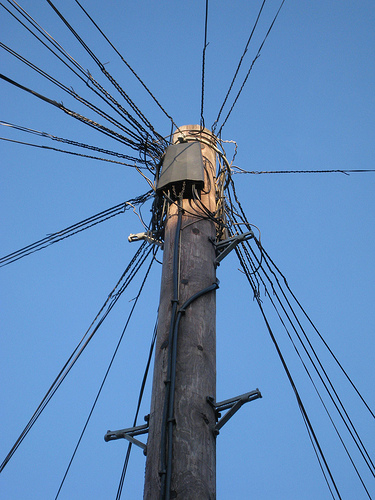pole: (149, 123, 230, 498)
